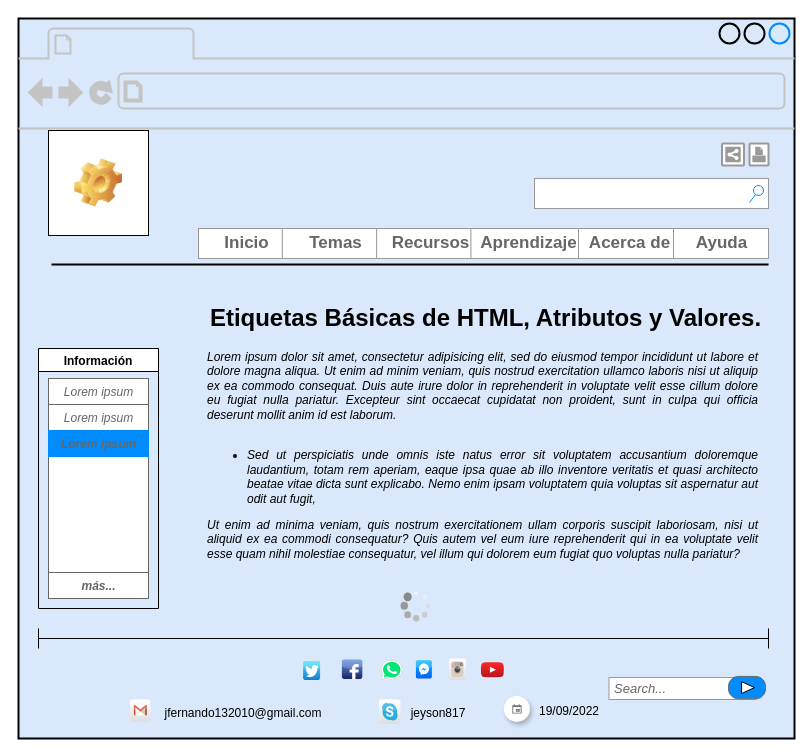
The diagram is 812 pixels wide and 756 high, and some of its shapes have lost their labels. The centre of each missing label's shape, as x and y in pixels:
Búsqueda...: [651,193]
DSW: [133,43]
https://www.DSW-JeysonNieto/fase2/desing.html: [273,91]
Icon: [98,183]
